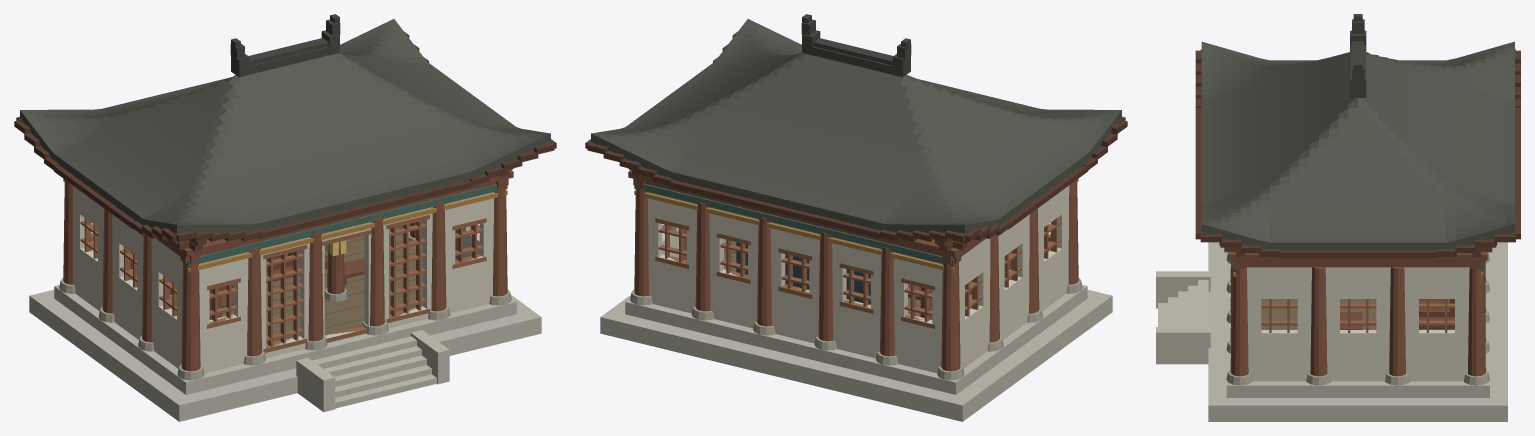
Rendered from Jeolhwa_Hall.fbx.
The picture shows the model from 3 angles, left to right: view 1: azimuth 30°, elevation 25°; view 2: azimuth 150°, elevation 25°; view 3: azimuth 270°, elevation 25°; orthographic projection.
Parts seen in each view (by area): view 1: Hall_Roof, Hall_Wall, Hall_Stylobate, Hall_Column, Hall_Lattice, Hall_Stairs, Hall_Eave, Hall_Floor, Hall_RoofEdge, Hall_Trim, Hall_Plinth, Hall_Beam (+2 smaller); view 2: Hall_Roof, Hall_Wall, Hall_Stylobate, Hall_Column, Hall_Lattice, Hall_Eave, Hall_RoofEdge, Hall_Trim, Hall_Beam, Hall_Plinth, Hall_Ochre, Hall_Screen; view 3: Hall_Roof, Hall_Wall, Hall_Stylobate, Hall_Column, Hall_Eave, Hall_Stairs, Hall_Beam, Hall_Lattice, Hall_Plinth, Hall_Floor, Hall_RoofEdge, Hall_Dais.
Part boxes in pixels (x1=…): Hall_Roof: x1=20, y1=19, x2=550, y2=232; Hall_Wall: x1=72, y1=185, x2=494, y2=373; Hall_Stylobate: x1=29, y1=285, x2=541, y2=421; Hall_Column: x1=63, y1=180, x2=507, y2=371; Hall_Lattice: x1=80, y1=214, x2=486, y2=352; Hall_Stairs: x1=296, y1=330, x2=449, y2=412; Hall_Eave: x1=14, y1=31, x2=556, y2=241; Hall_Floor: x1=130, y1=227, x2=422, y2=344; Hall_RoofEdge: x1=230, y1=14, x2=340, y2=77; Hall_Trim: x1=187, y1=182, x2=507, y2=266; Hall_Plinth: x1=59, y1=232, x2=511, y2=380; Hall_Beam: x1=156, y1=170, x2=513, y2=264; Hall_Roof: x1=591, y1=19, x2=1121, y2=232; Hall_Wall: x1=647, y1=185, x2=1069, y2=373; Hall_Stylobate: x1=600, y1=285, x2=1112, y2=421; Hall_Column: x1=634, y1=180, x2=1078, y2=371; Hall_Lattice: x1=655, y1=218, x2=1061, y2=328; Hall_Eave: x1=585, y1=31, x2=1127, y2=241; Hall_RoofEdge: x1=801, y1=14, x2=911, y2=77; Hall_Trim: x1=634, y1=182, x2=954, y2=266; Hall_Beam: x1=628, y1=170, x2=985, y2=264; Hall_Plinth: x1=630, y1=239, x2=1082, y2=380; Hall_Ochre: x1=634, y1=178, x2=1078, y2=272; Hall_Screen: x1=736, y1=242, x2=870, y2=304; Hall_Roof: x1=1201, y1=41, x2=1514, y2=250; Hall_Wall: x1=1247, y1=267, x2=1469, y2=381; Hall_Stylobate: x1=1208, y1=242, x2=1507, y2=421; Hall_Column: x1=1230, y1=261, x2=1485, y2=376; Hall_Eave: x1=1195, y1=49, x2=1520, y2=258; Hall_Stairs: x1=1156, y1=271, x2=1210, y2=364; Hall_Beam: x1=1228, y1=252, x2=1487, y2=268; Hall_Lattice: x1=1261, y1=299, x2=1454, y2=332; Hall_Plinth: x1=1226, y1=252, x2=1489, y2=385; Hall_Floor: x1=1261, y1=299, x2=1454, y2=329; Hall_RoofEdge: x1=1350, y1=14, x2=1366, y2=97; Hall_Dais: x1=1340, y1=299, x2=1454, y2=329.
Bounding box in the file's own units: 97.6 × 71.45 × 80.3.
